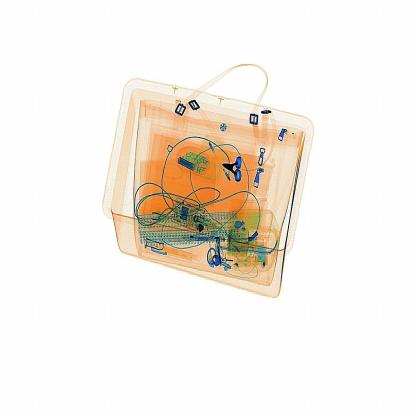gun: (220, 152, 259, 191)
